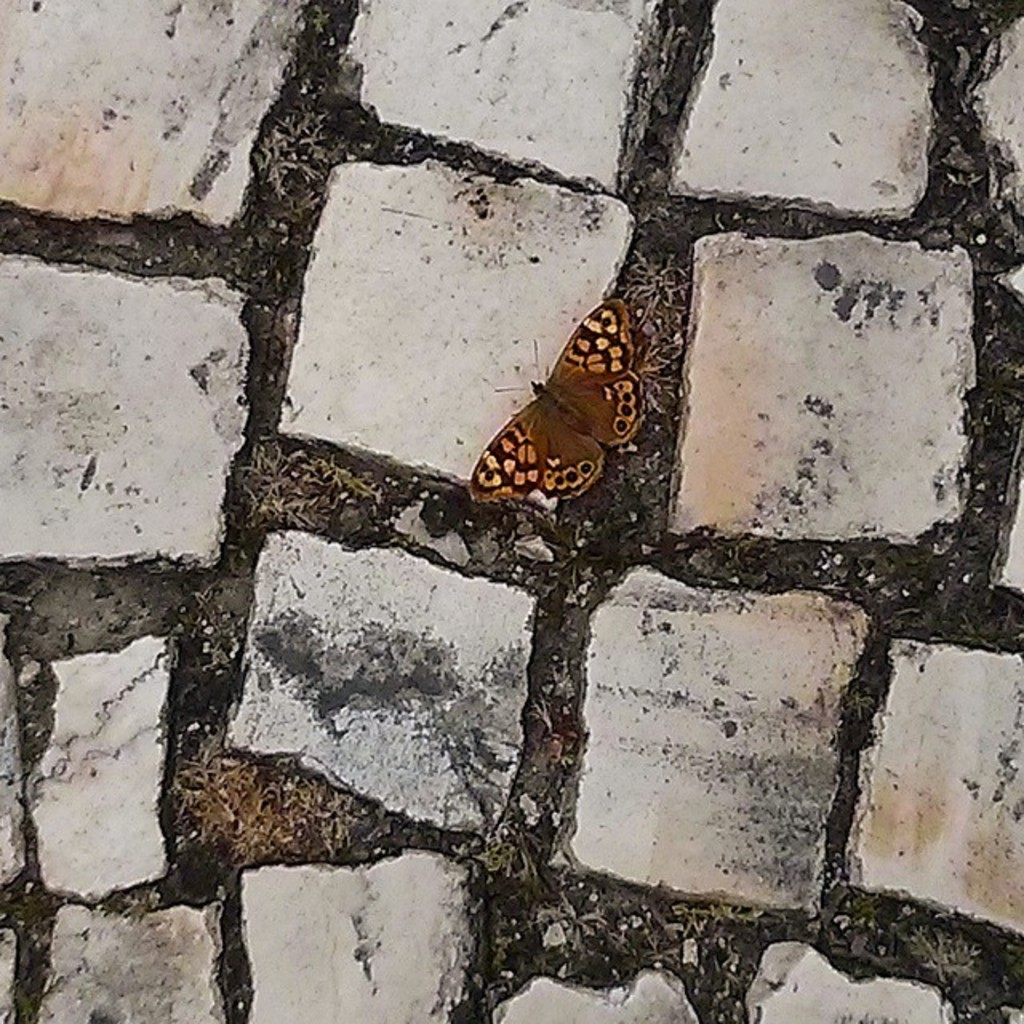Butterfly: (471, 304, 654, 531)
